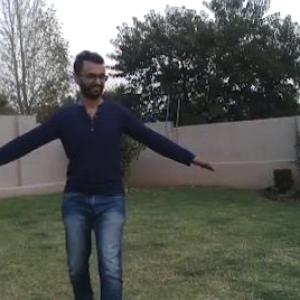land: (1, 28, 235, 299)
